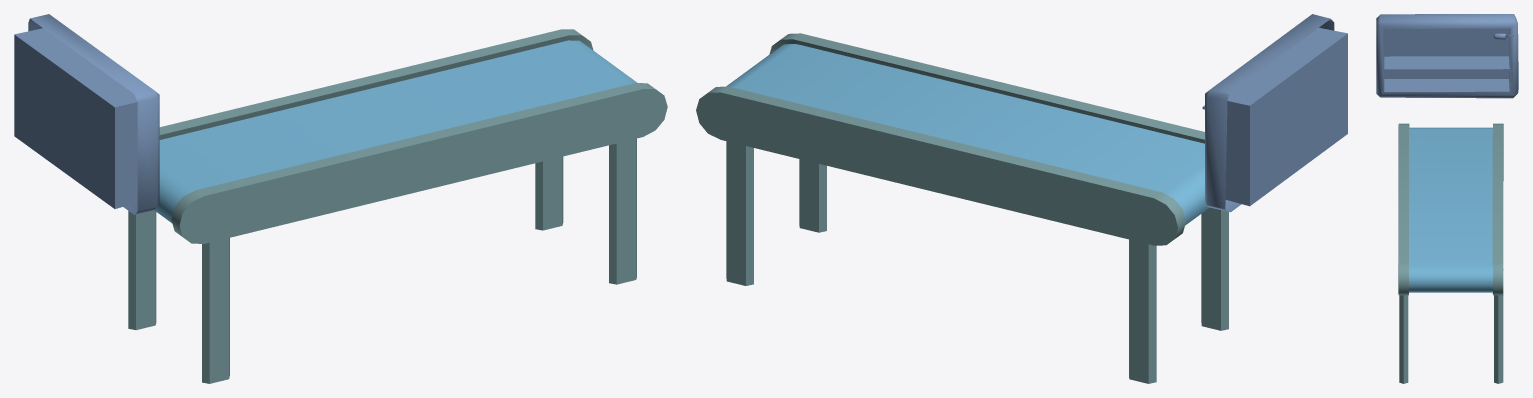
The model's file is Horno.glb.
3 renders of one model, left to right at view 1: azimuth 30°, elevation 25°; view 2: azimuth 150°, elevation 25°; view 3: azimuth 270°, elevation 25°, orthographic. The views are drawn at different scales.
Visible parts, largest first — view 1: Horno; view 2: Horno; view 3: Horno.
Boxes of the visible parts, bbox=[...] form: Horno: bbox=[14, 14, 667, 383]; Horno: bbox=[696, 14, 1347, 383]; Horno: bbox=[1376, 14, 1518, 383].
Size of the model in its own units: 7.22 by 3.92 by 2.45.
